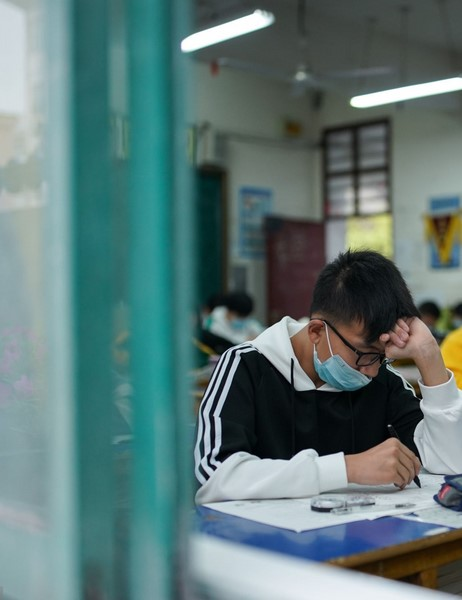face_with_mask: (315, 254, 403, 391)
